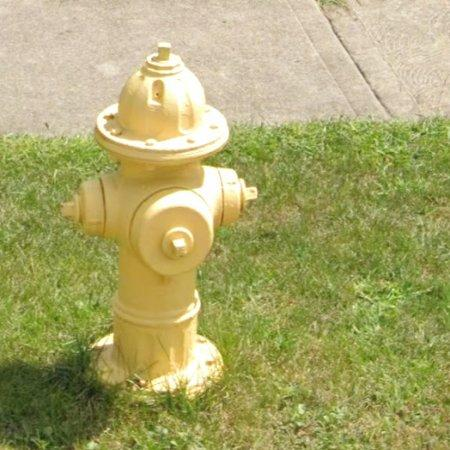a fire hydrant: (62, 42, 258, 394)
